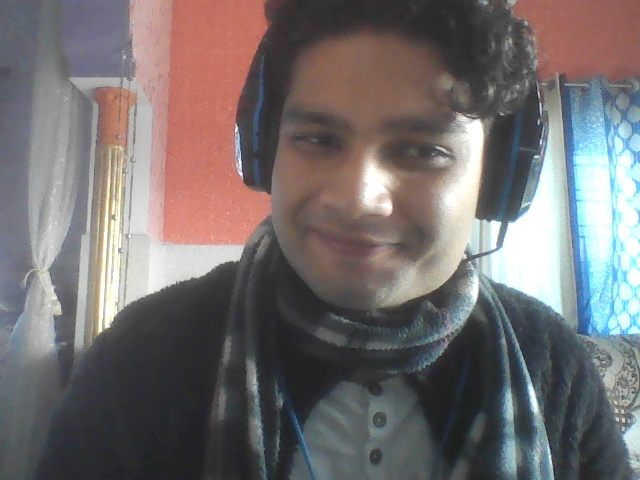real: (237, 0, 517, 397)
